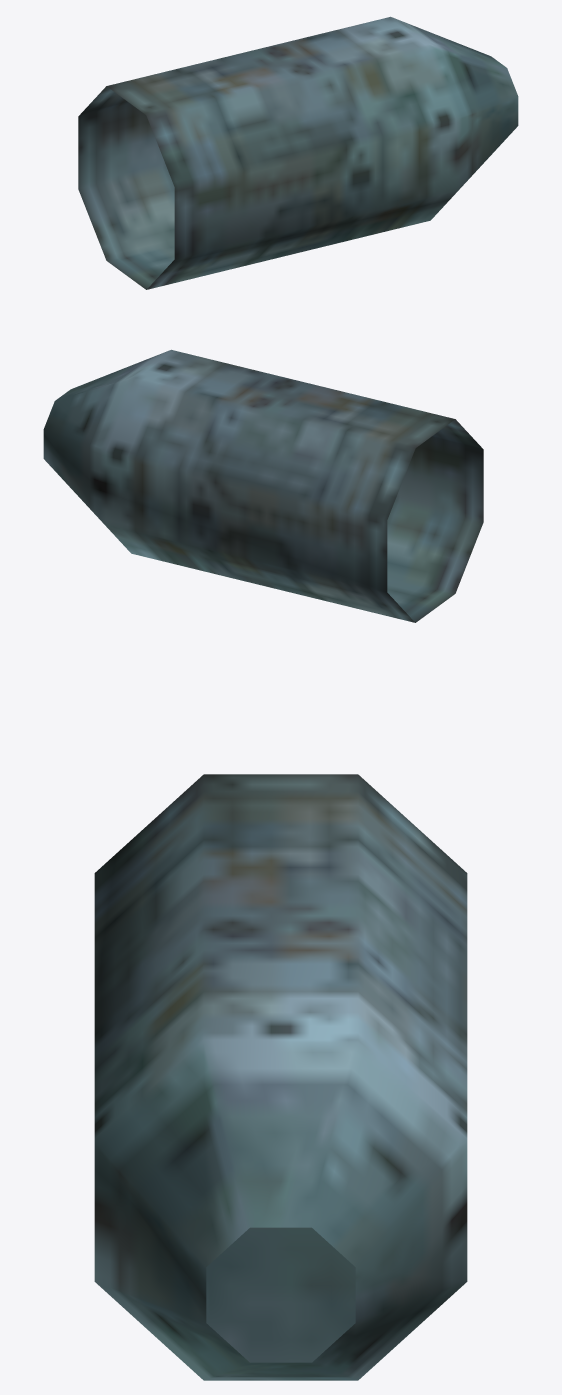
Rendered from ship_component_engine_s01_l3.fbx.
The picture shows the model from 3 angles, top to bottom: view 1: azimuth 30°, elevation 25°; view 2: azimuth 150°, elevation 25°; view 3: azimuth 270°, elevation 25°; orthographic projection. The views are drawn at different scales.
Parts seen in each view (by area): view 1: mesh_node; view 2: mesh_node; view 3: mesh_node.
Boxes of the visible parts, x1=… form: mesh_node: x1=78, y1=16, x2=518, y2=289; mesh_node: x1=43, y1=349, x2=483, y2=622; mesh_node: x1=94, y1=774, x2=467, y2=1380.
Bounding box in the file's own units: 2.8 × 1.15 × 1.32.
